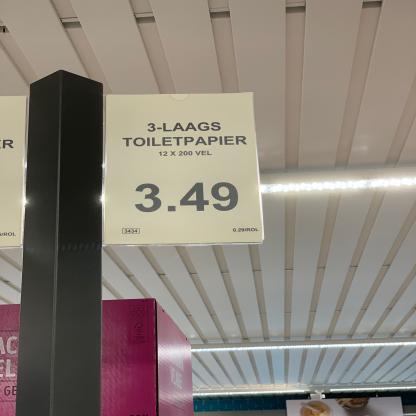prtg: (105, 93, 264, 247)
